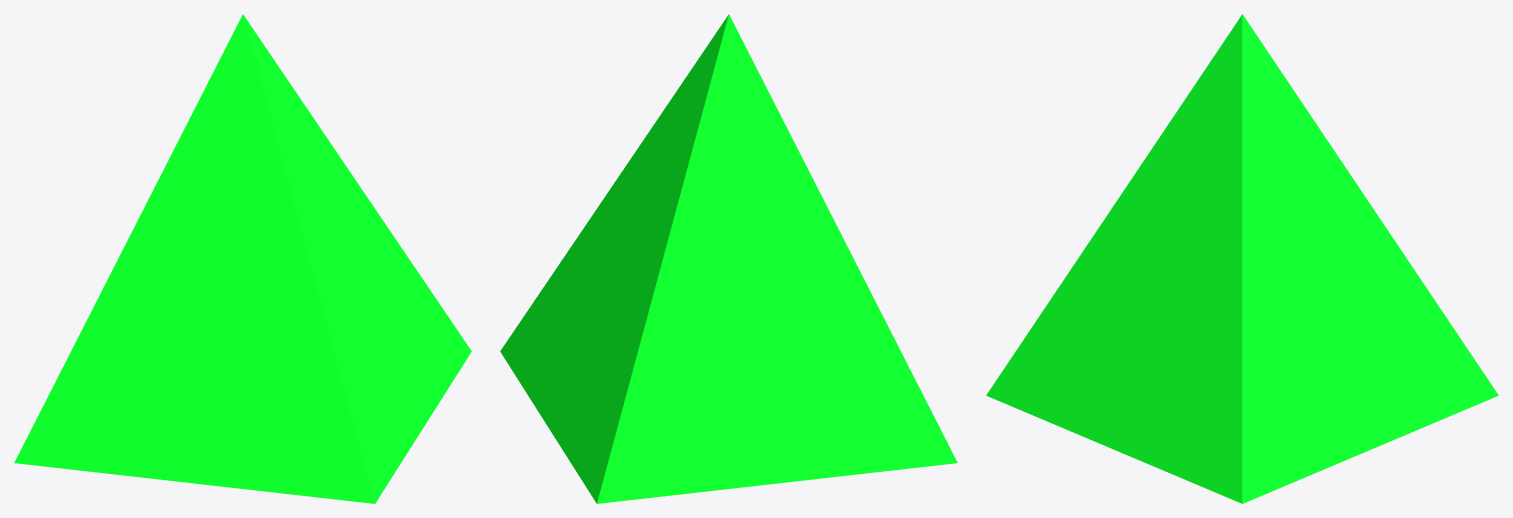
The model's file is BasePyramid.004.glb.
The picture shows the model from 3 angles, left to right: view 1: azimuth 30°, elevation 25°; view 2: azimuth 150°, elevation 25°; view 3: azimuth 270°, elevation 25°; orthographic projection. The views are drawn at different scales.
Visible parts, largest first — view 1: BasePyramid.004; view 2: BasePyramid.004; view 3: BasePyramid.004.
Part boxes in pixels (x1=…): BasePyramid.004: x1=14, y1=14, x2=471, y2=503; BasePyramid.004: x1=500, y1=14, x2=957, y2=503; BasePyramid.004: x1=986, y1=14, x2=1498, y2=503.
Size of what is drawn, in the model's own units: 0.9142 by 0.7506 by 0.9142.
Materials: 1 (1 with a texture image).
